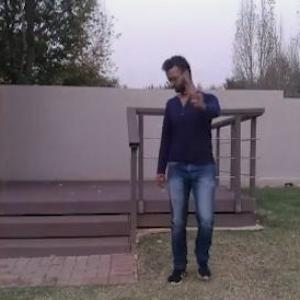takeoff-hand: (183, 72, 211, 110)
